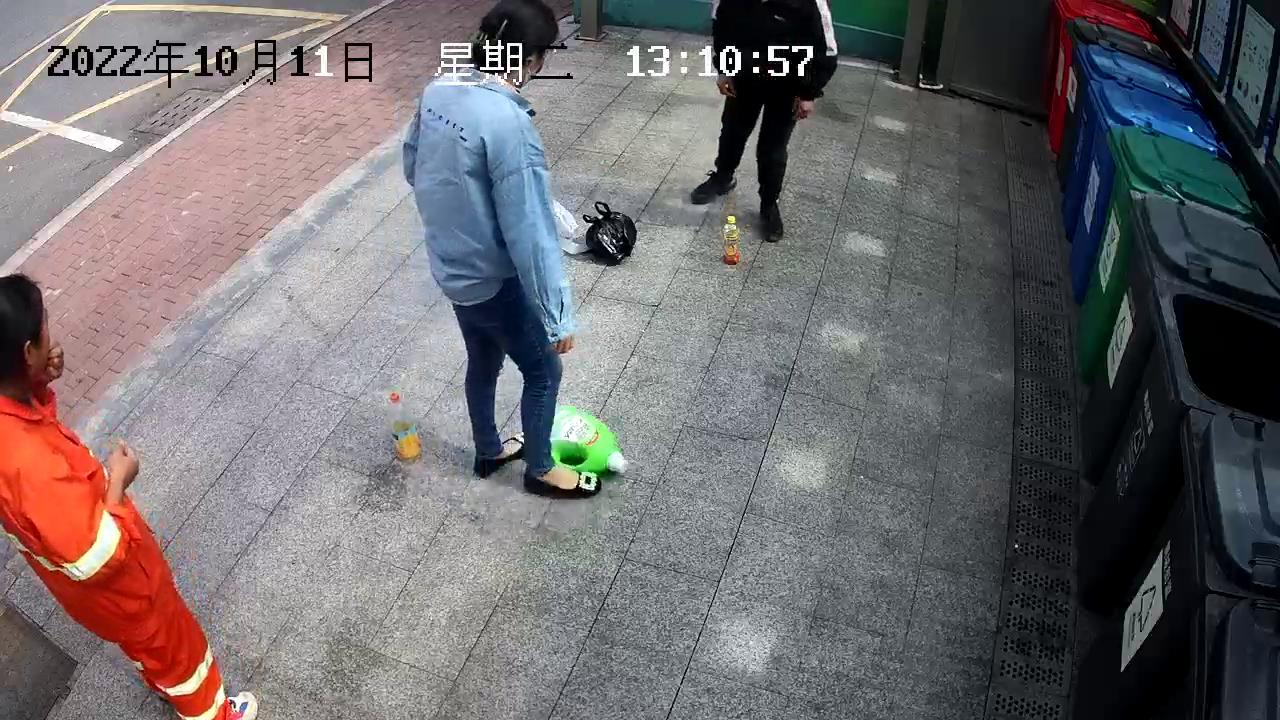garbage-bag: (580, 197, 638, 268)
person: (686, 1, 840, 244)
suliaozhipin: (384, 387, 425, 465), (719, 212, 742, 265)
worker: (1, 271, 261, 720), (398, 2, 603, 502)
